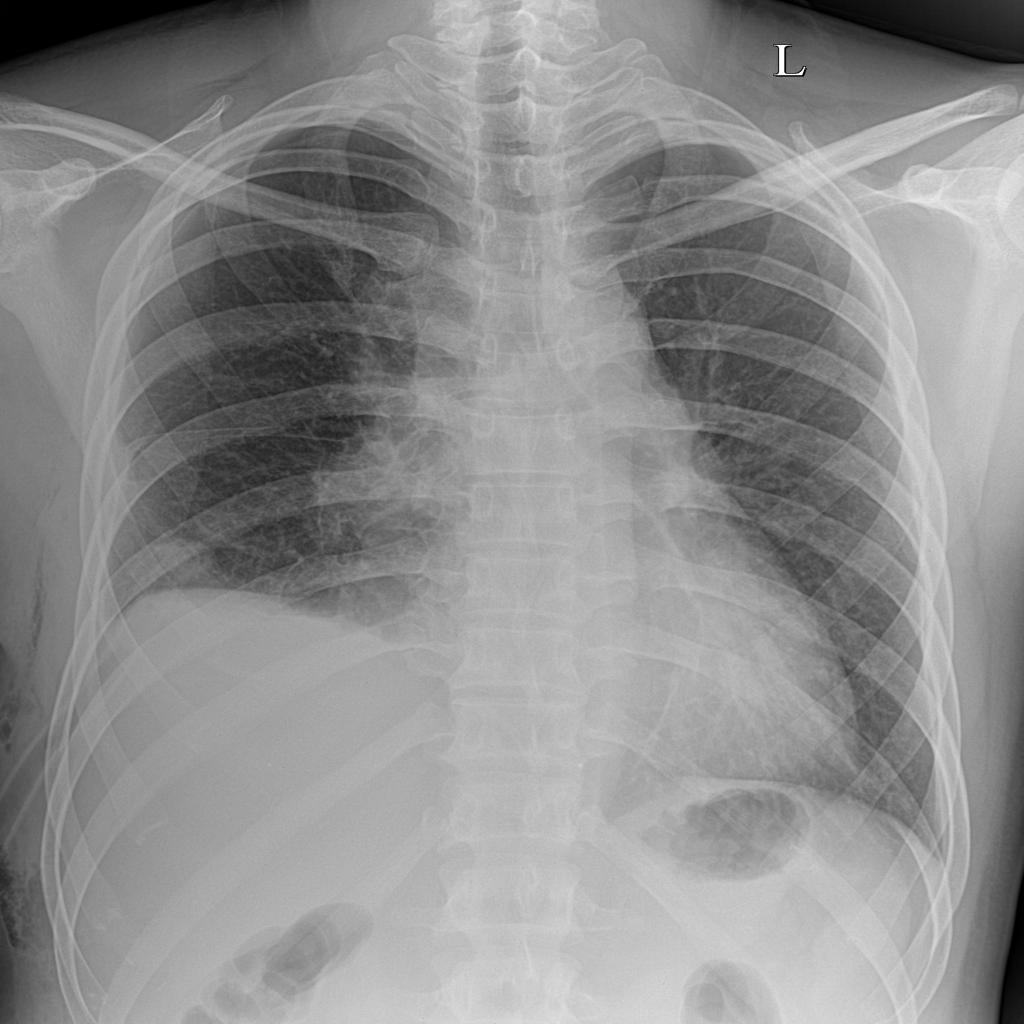Nodule: (317, 421, 442, 545), (125, 525, 229, 600)
